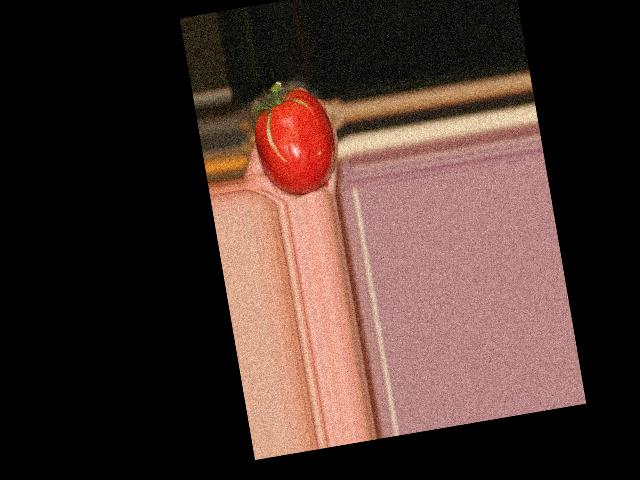tomato: (249, 84, 342, 200)
